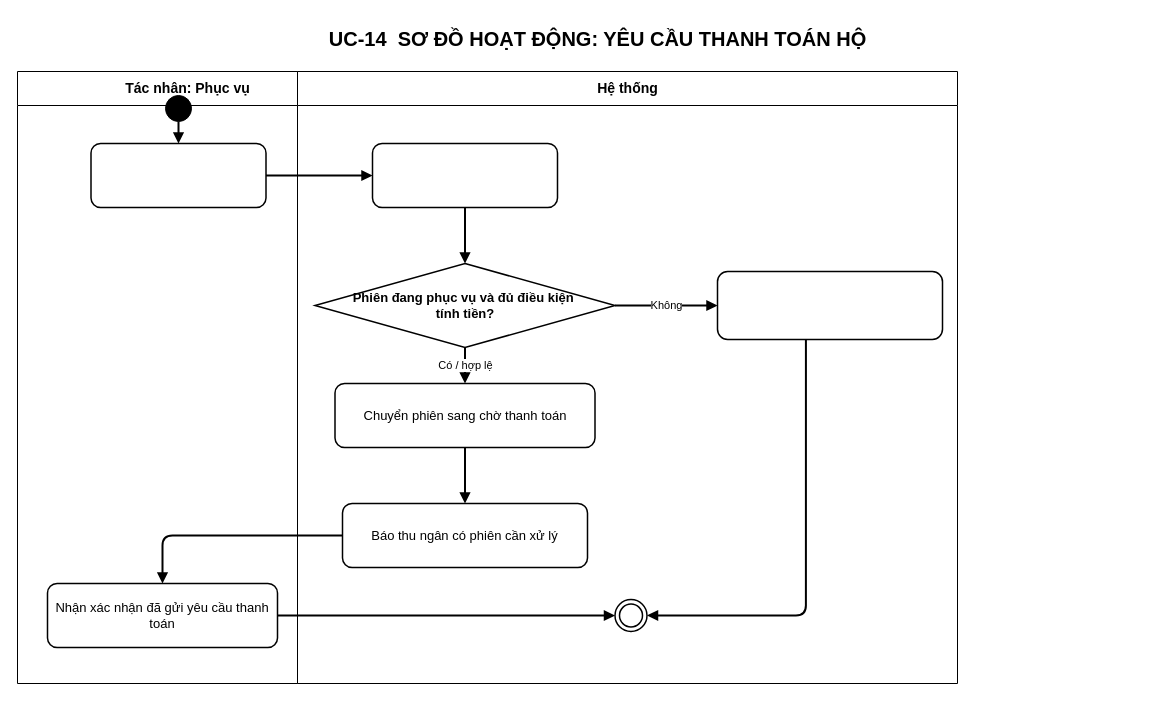
Image size: 1165x701. Some labels were removed from this diagram. Here are the shapes that lost their labels. From the top down, the box of each, then its label:
(90, 142, 266, 208): Mở bàn và chọn yêu cầu thanh toán
(371, 142, 558, 208): Kiểm tra quyền nhân viên và trạng thái phiên
(716, 270, 943, 340): Báo phiên không thể chuyển sang chờ thanh toán
